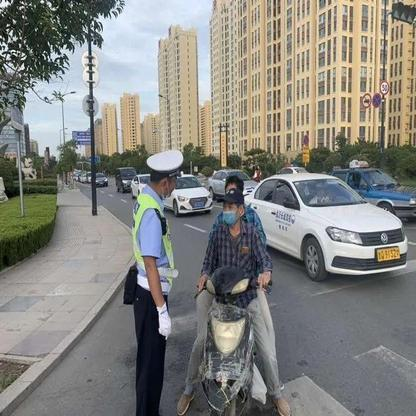target: (181, 185, 293, 413)
